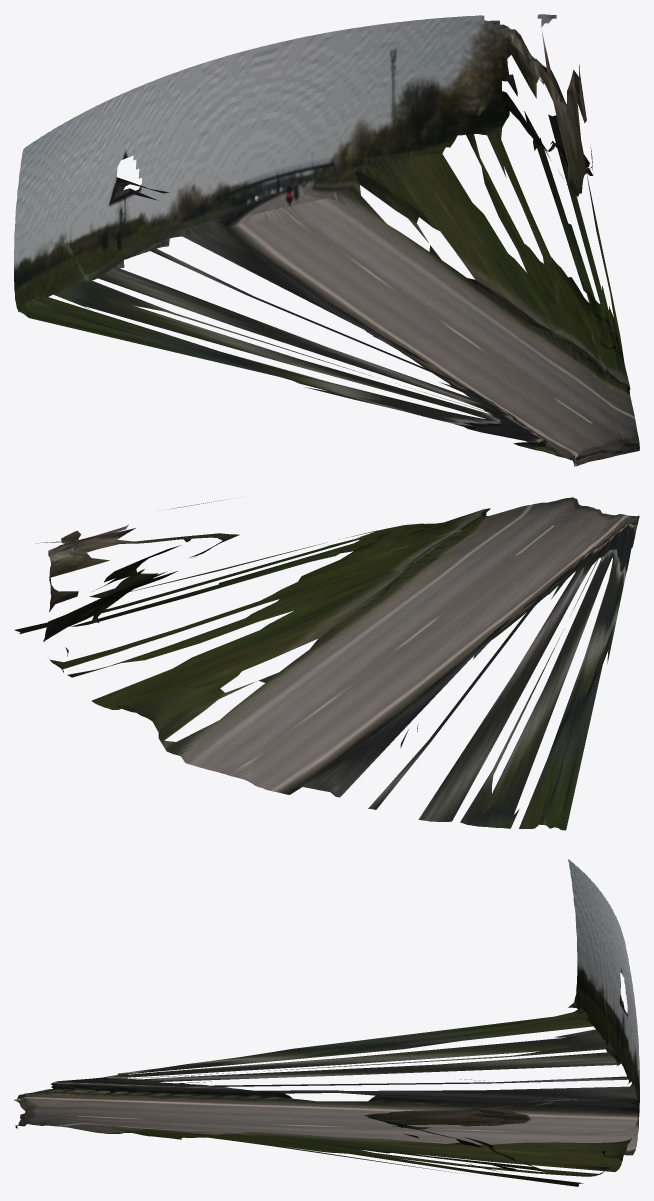
3 renders of one model, top to bottom at view 1: azimuth 30°, elevation 25°; view 2: azimuth 150°, elevation 25°; view 3: azimuth 270°, elevation 25°, orthographic. The views are drawn at different scales.
Visible parts, largest first — view 1: defaultobject; view 2: defaultobject; view 3: defaultobject.
Boxes of the visible parts, x1,y1,x2,y2 form: defaultobject: (14,14,639,466); defaultobject: (14,497,639,830); defaultobject: (14,859,639,1186).
Bounding box in the file's own units: 40.16 × 12.84 × 44.6.
1 material, 1 textured.
